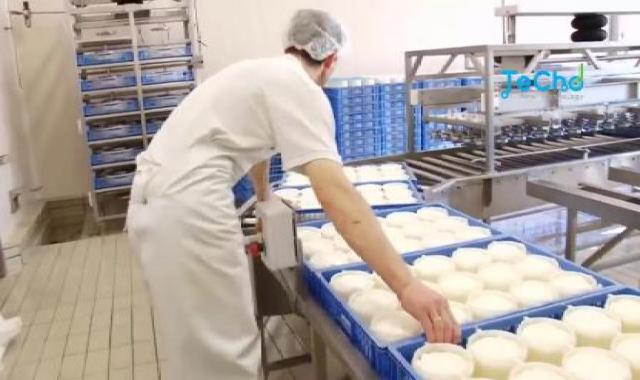hairnet: (270, 8, 360, 61)
